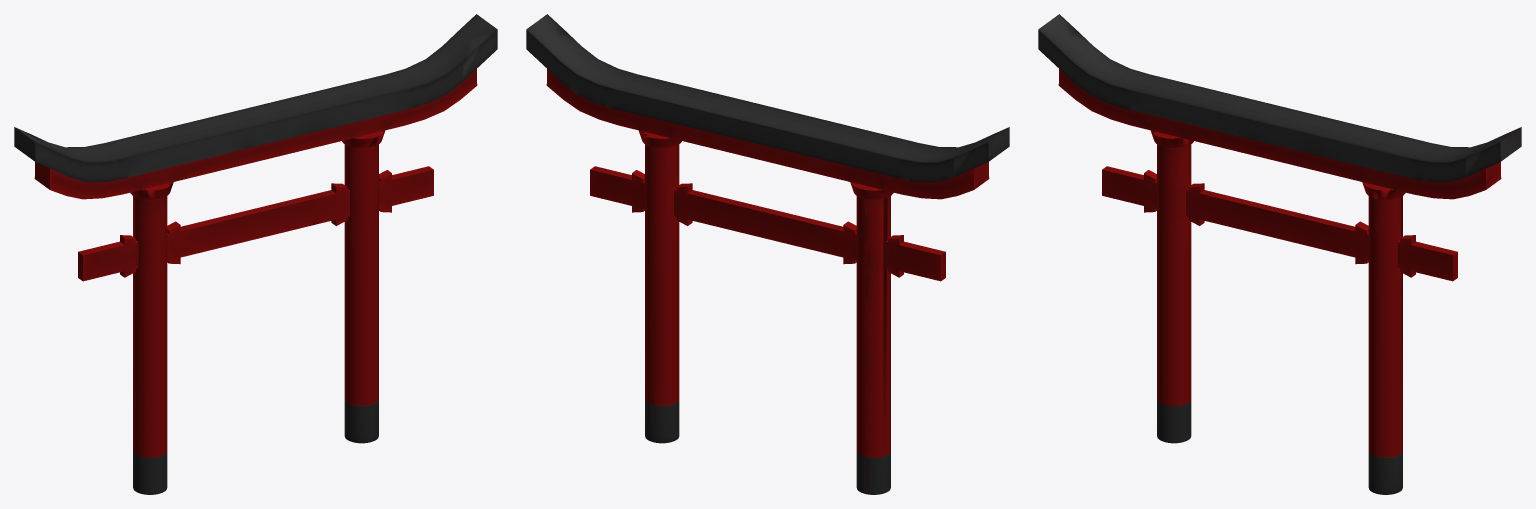
The model's file is Torii.gltf.
The picture shows the model from 3 angles, left to right: view 1: azimuth 30°, elevation 25°; view 2: azimuth 150°, elevation 25°; view 3: azimuth 330°, elevation 25°; orthographic projection.
Parts seen in each view (by area): view 1: Torii_Model; view 2: Torii_Model; view 3: Torii_Model.
Part boxes in pixels (x1=…): Torii_Model: x1=14, y1=14, x2=497, y2=494; Torii_Model: x1=526, y1=14, x2=1009, y2=494; Torii_Model: x1=1038, y1=14, x2=1521, y2=494.
Bounding box in the file's own units: 6.49 × 5.15 × 0.5856.
1 material, 1 textured.
